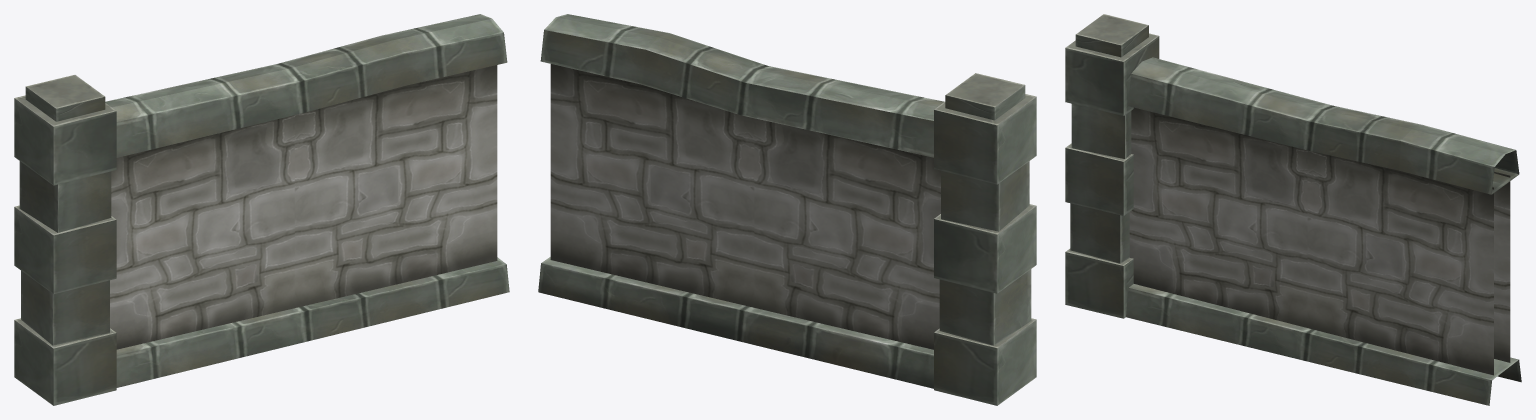
Rendered from wall_01_tile.fbx.
3 views of the same model, side by side, from view 1: azimuth 30°, elevation 25°; view 2: azimuth 150°, elevation 25°; view 3: azimuth 330°, elevation 25° (orthographic). The views are drawn at different scales.
Parts seen in each view (by area): view 1: wall_01_tile:Mesh; view 2: wall_01_tile:Mesh; view 3: wall_01_tile:Mesh.
Boxes of the visible parts, <box> form: wall_01_tile:Mesh: <box>14,14,509,405</box>; wall_01_tile:Mesh: <box>538,14,1036,405</box>; wall_01_tile:Mesh: <box>1065,14,1521,405</box>.
Size of the model in its own units: 4.61 by 2.81 by 0.6835.
